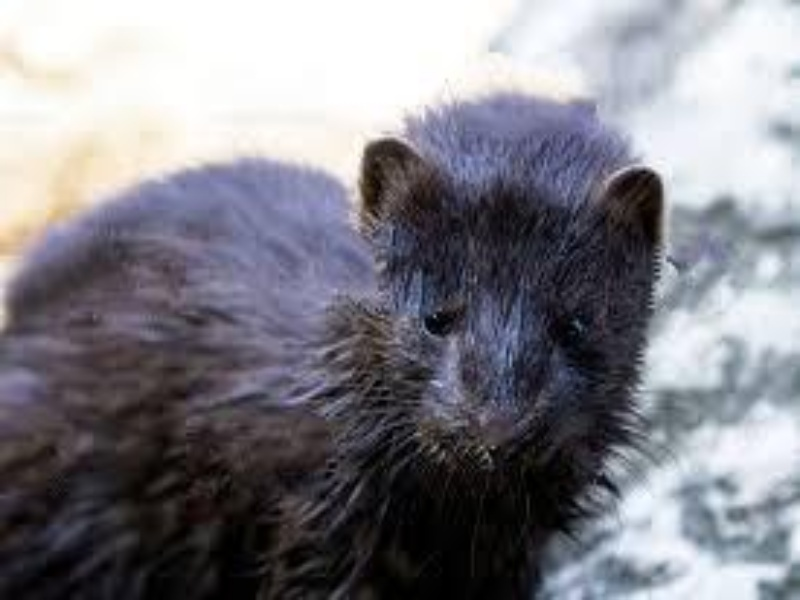minkish: (3, 84, 669, 593)
